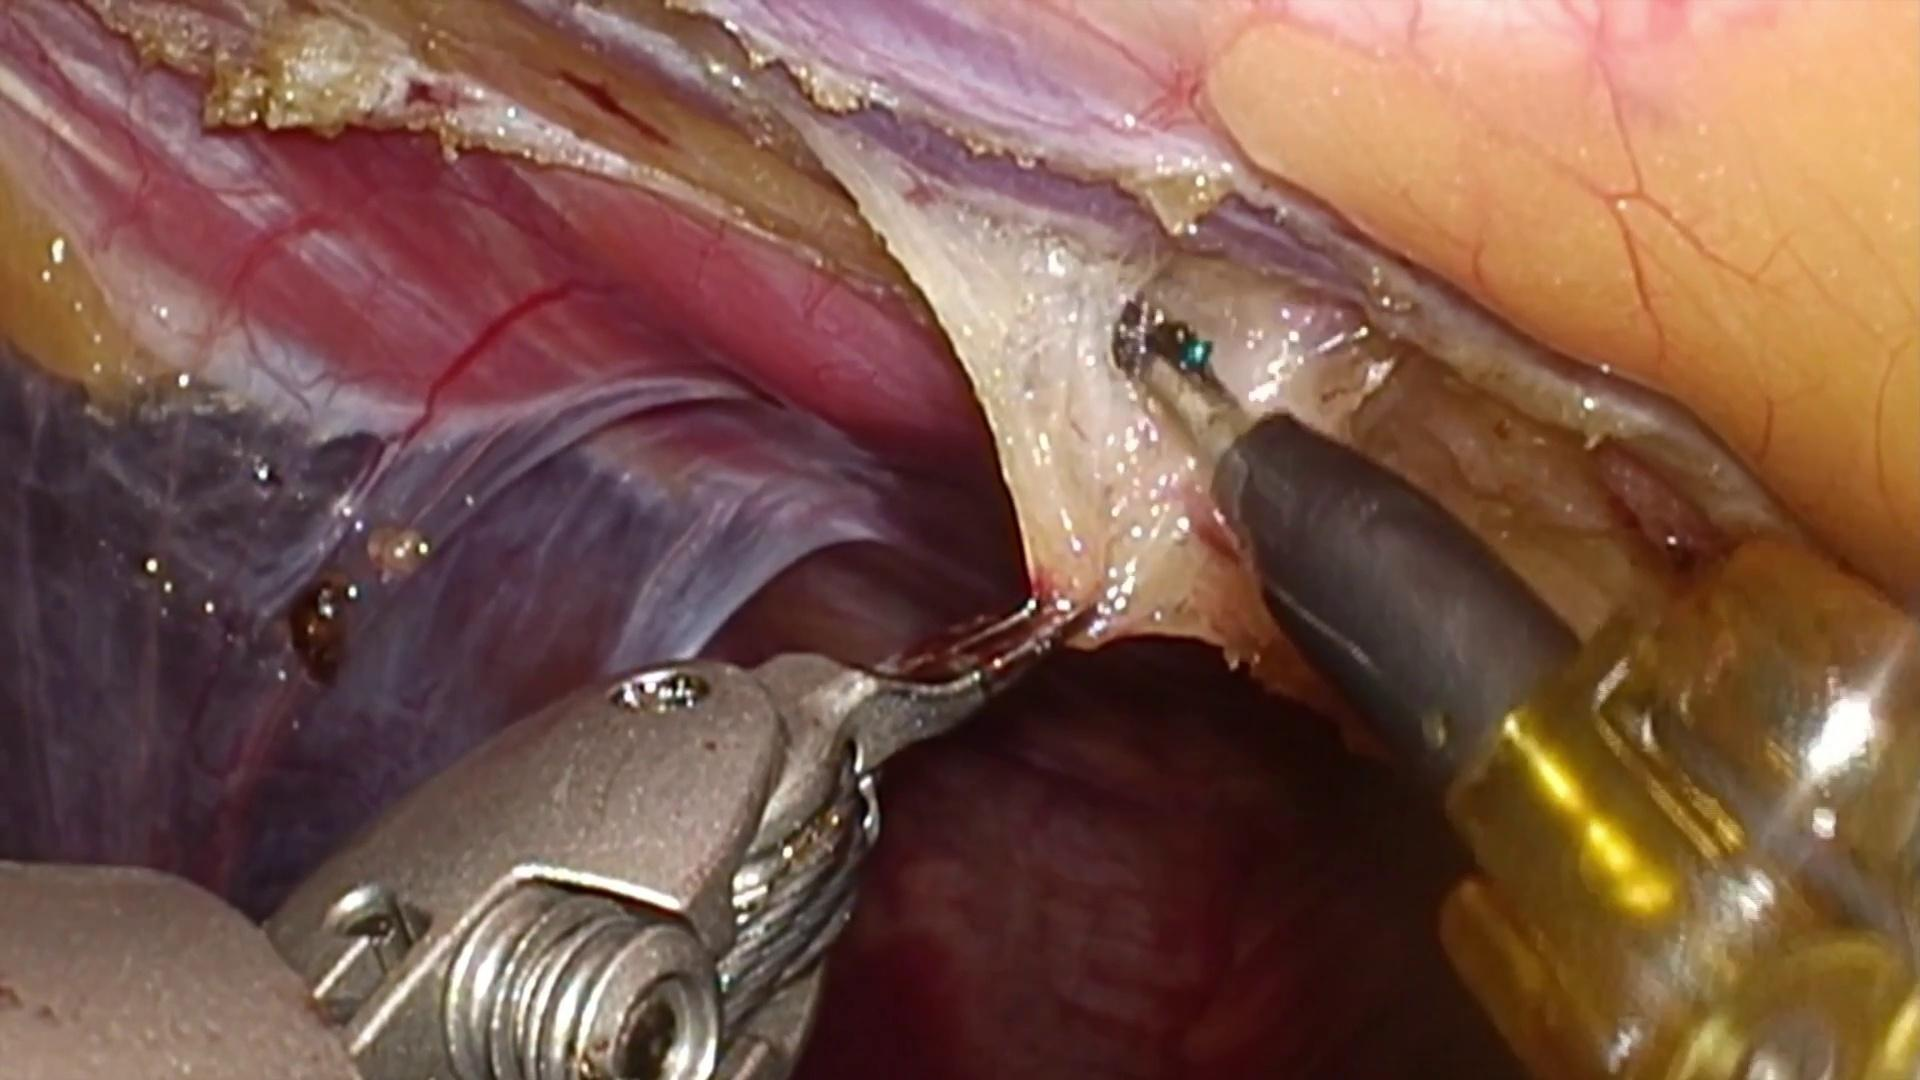Cautery_Spatula: (1112, 302, 1581, 800)
Debakey: (758, 588, 1080, 796)
